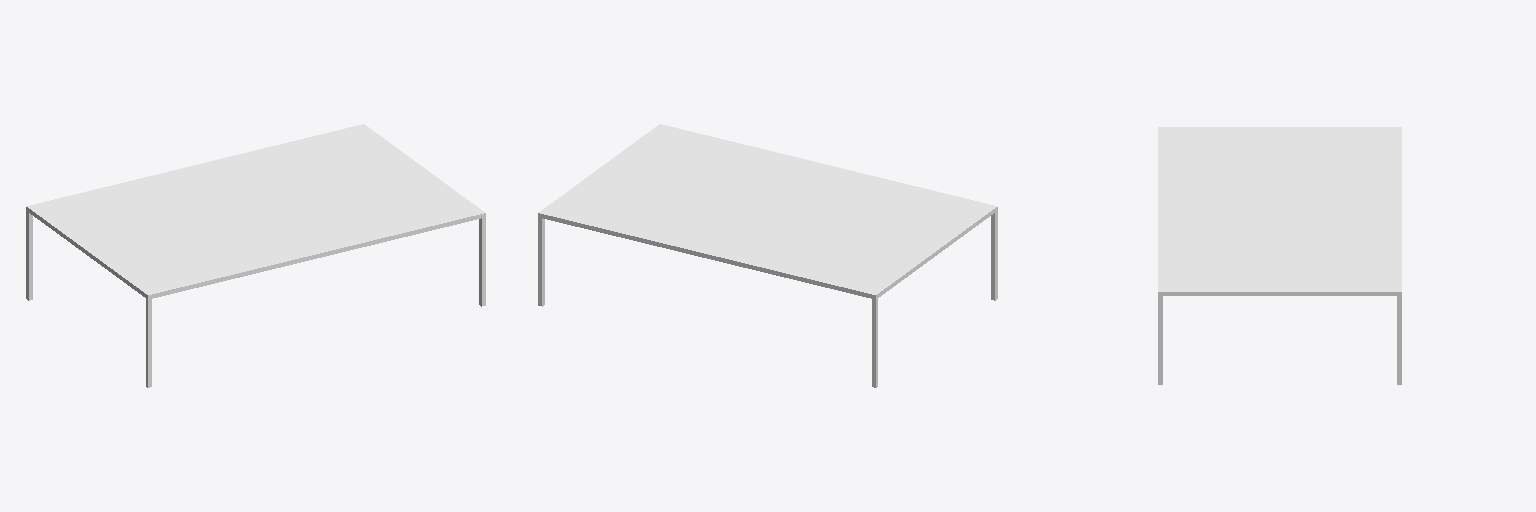
The model's file is tavolo.obj.
3 renders of one model, left to right at view 1: azimuth 30°, elevation 25°; view 2: azimuth 150°, elevation 25°; view 3: azimuth 270°, elevation 25°, orthographic.
Visible parts, largest first — view 1: Mesh1 Model; view 2: Mesh1 Model; view 3: Mesh1 Model.
Part boxes in pixels (left/top/right/bottom): Mesh1 Model: left=26, top=124, right=485, bottom=387; Mesh1 Model: left=538, top=124, right=997, bottom=387; Mesh1 Model: left=1158, top=127, right=1401, bottom=384.
Bounding box in the file's own units: 4 × 1.05 × 2.5.